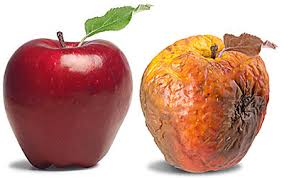apple: (9, 42, 132, 166)
damaged_apple: (143, 37, 272, 173)
